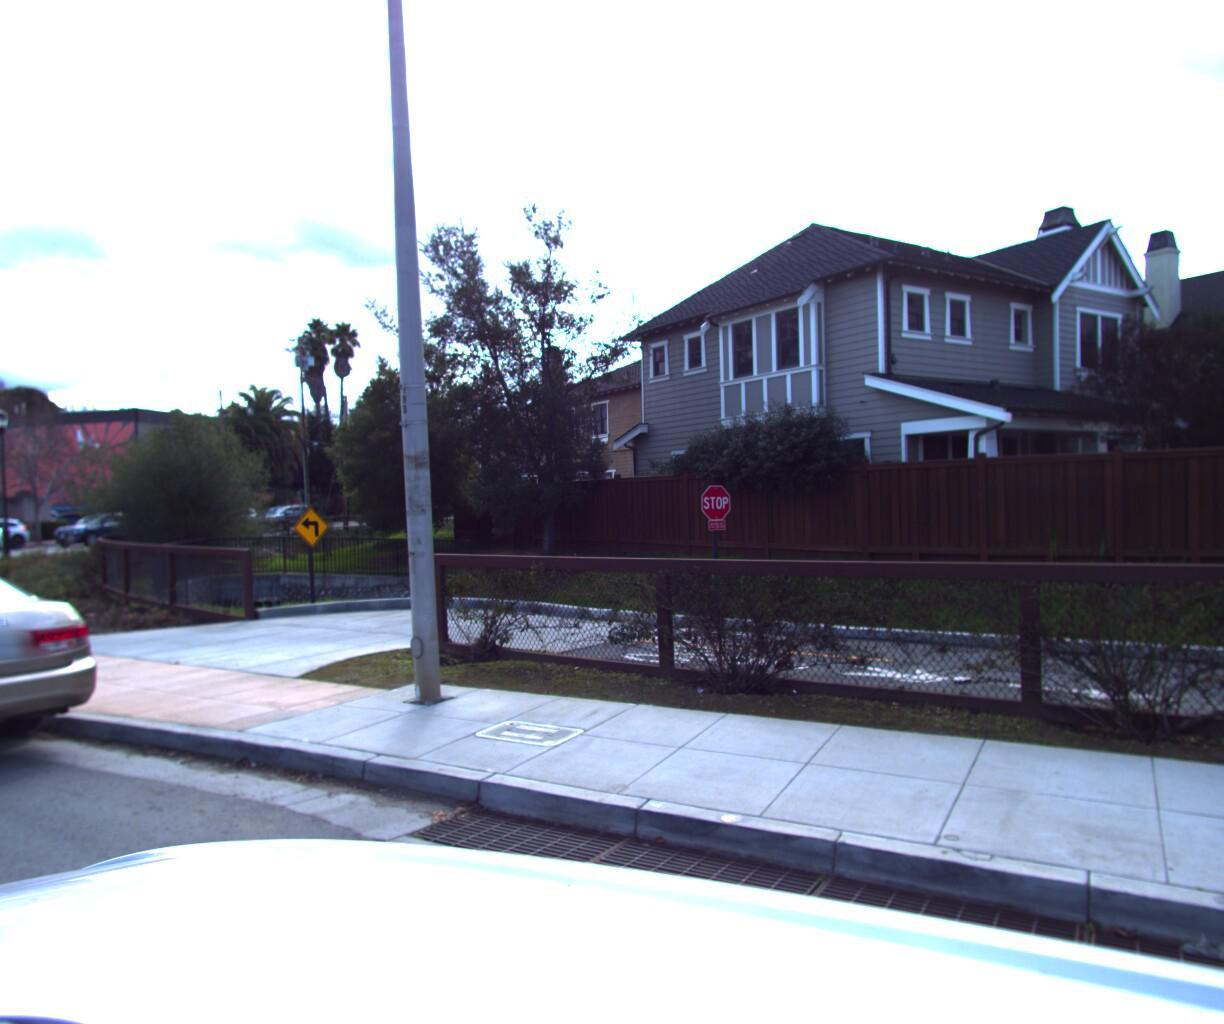car: (0, 531, 158, 806), (45, 509, 149, 545), (0, 513, 34, 553), (0, 518, 13, 558)
